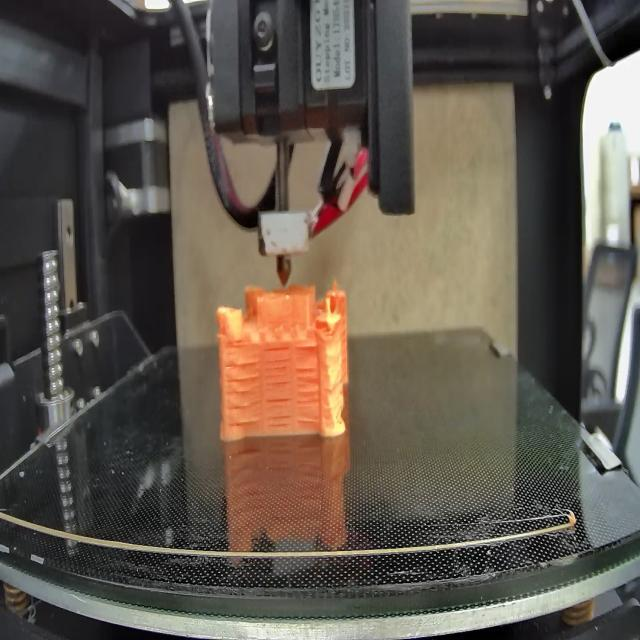cracks: (224, 357, 264, 427), (267, 343, 293, 430), (294, 365, 321, 425), (295, 340, 318, 352)
